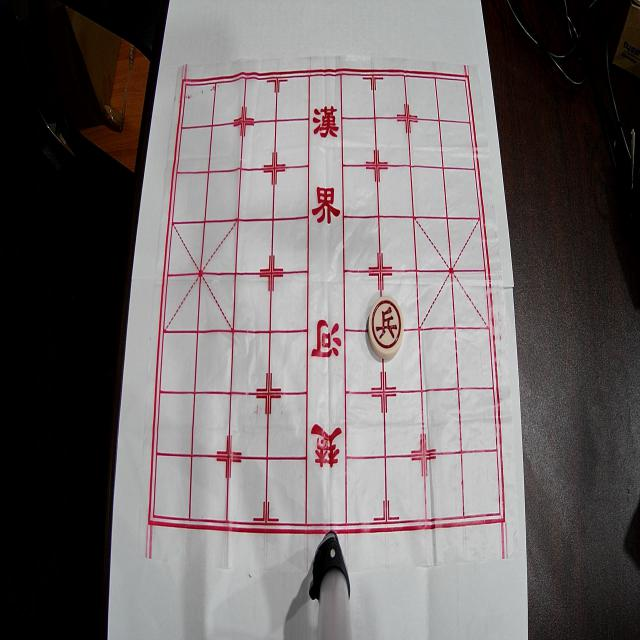red-soldier: (368, 297, 404, 359)
